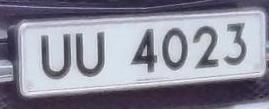0: (159, 21, 191, 77)
2: (190, 19, 224, 74)
3: (221, 18, 251, 71)
4: (127, 22, 161, 80)
U: (35, 30, 75, 84), (73, 27, 112, 82)
